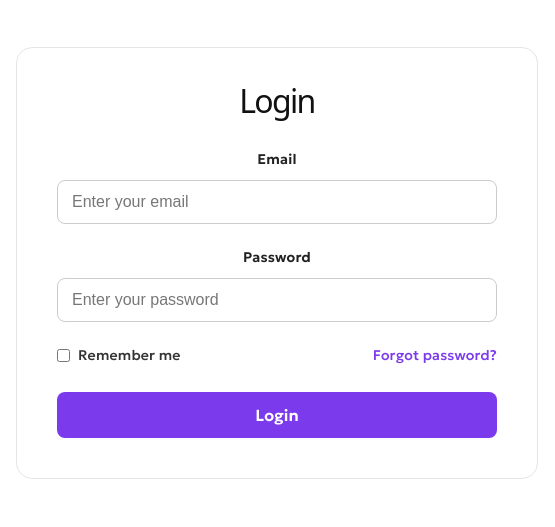
Test: Login › shows credential error on 401 response
Type "test@example.com" into the field labelled "Email" at x=277, y=202, box [57,180,497,224]
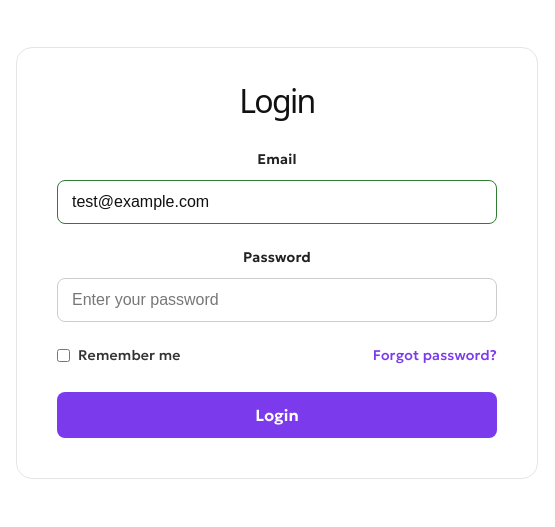
Type "password123" into the password field labelled "Password" at x=277, y=300, box [57,278,497,322]
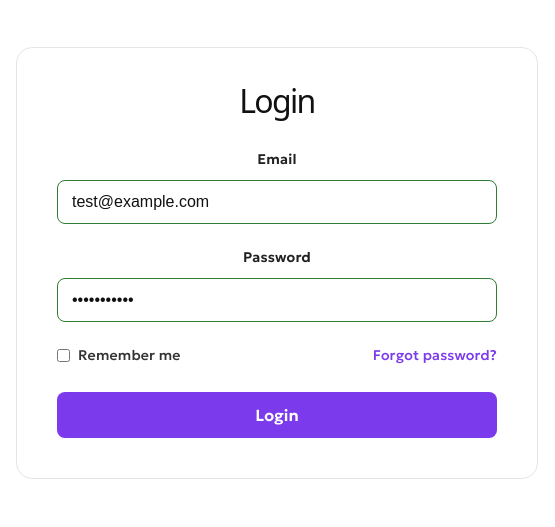
Click the checkbox labelled "Remember me" at x=64, y=355, box [57,349,70,362]
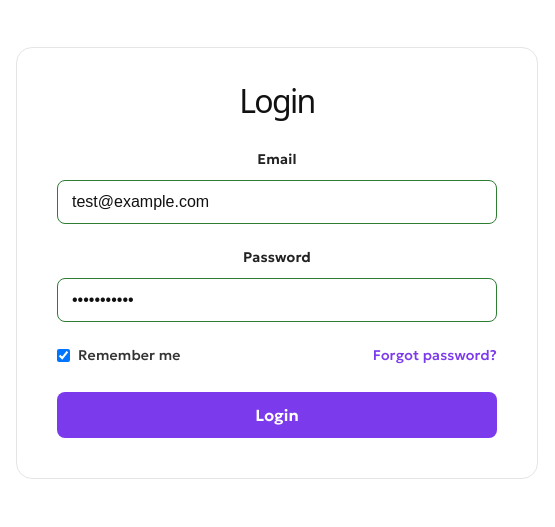
Click the button "Login" at x=277, y=415, box [57,392,497,438]
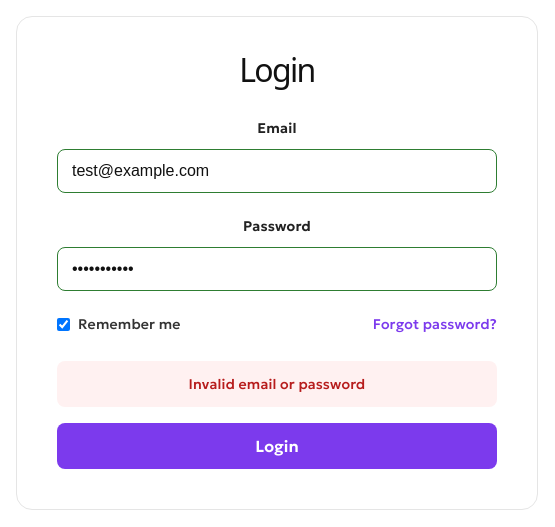
expect the text "Invalid email or password" is shown: met, box [57,361,497,407]
